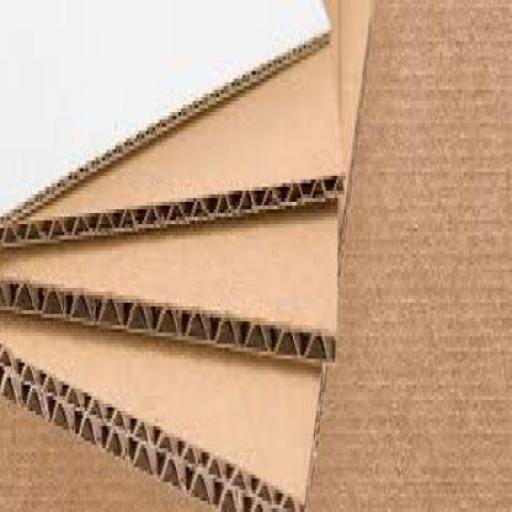cardboard: (0, 0, 511, 508), (0, 0, 374, 508), (0, 0, 336, 363), (0, 7, 345, 243), (0, 0, 329, 225)
